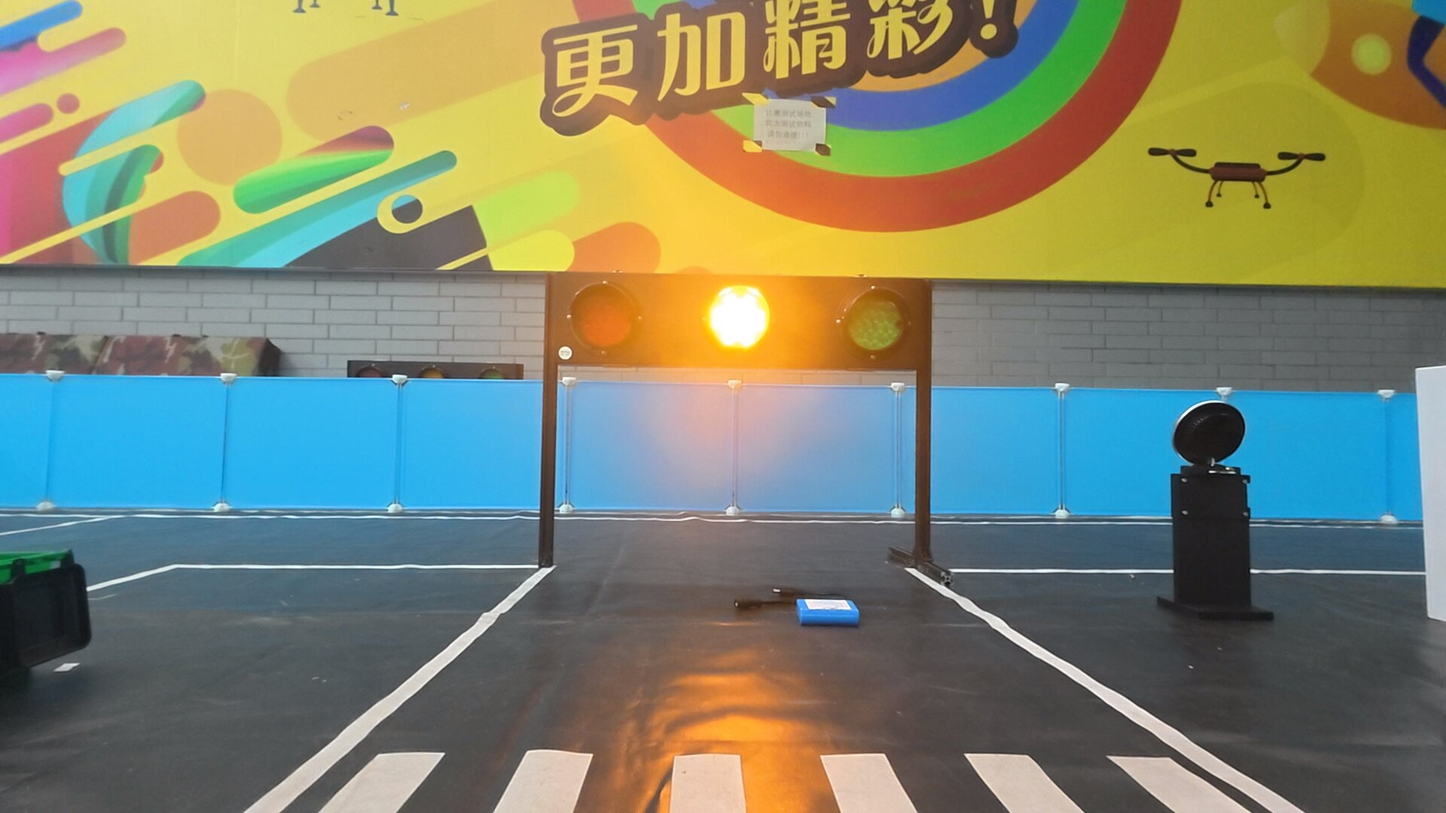stop: (702, 283, 774, 352)
